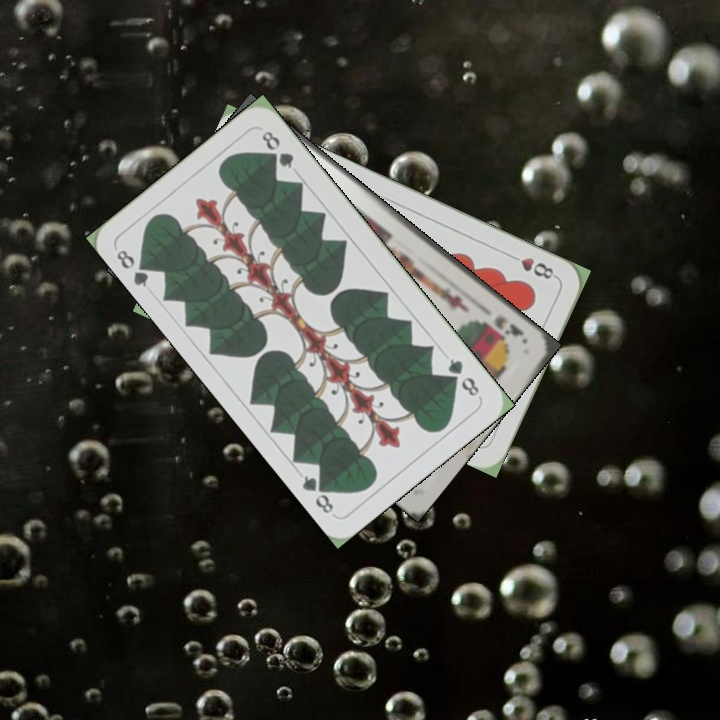G8: (112, 245, 155, 290), (444, 354, 482, 400)
H8: (504, 250, 560, 282)
SK: (490, 311, 527, 339)
